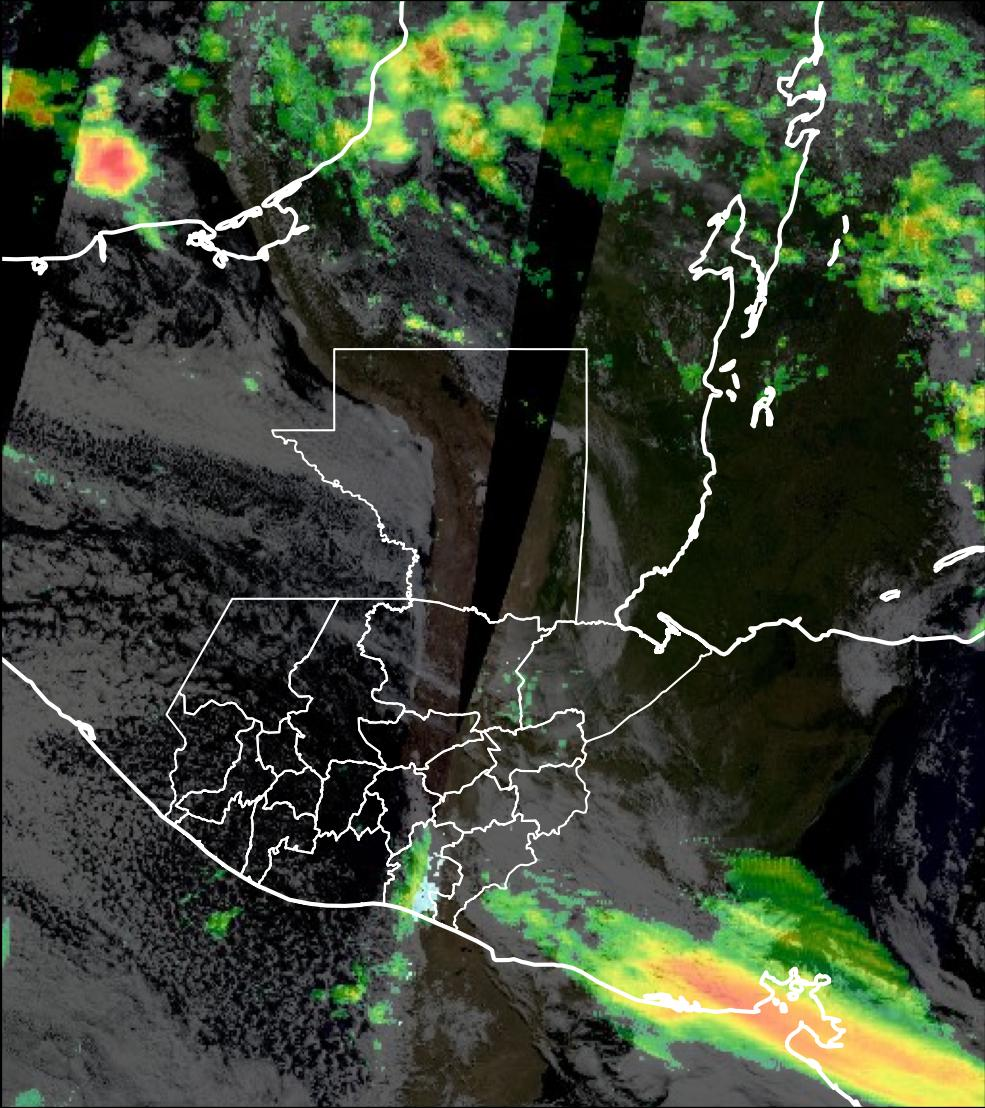precipitacion: (676, 945, 797, 1047), (68, 132, 140, 197)
